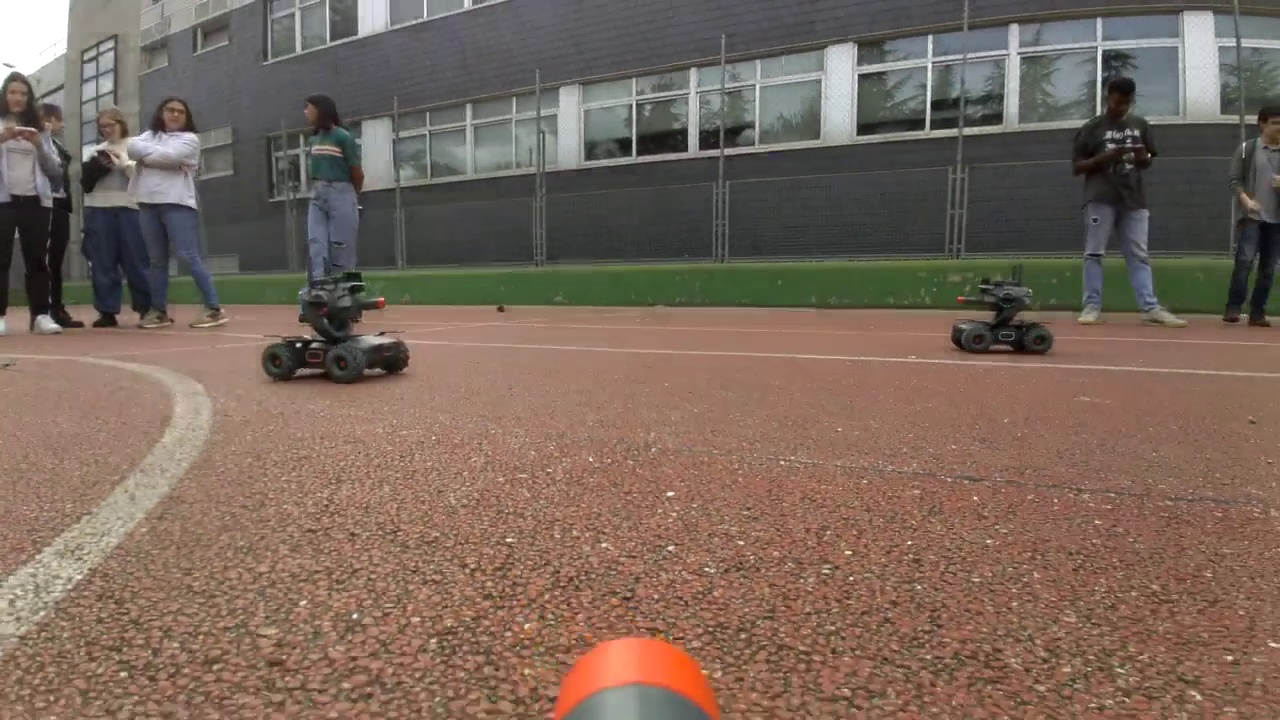robot: (262, 272, 409, 384), (951, 277, 1052, 354)
